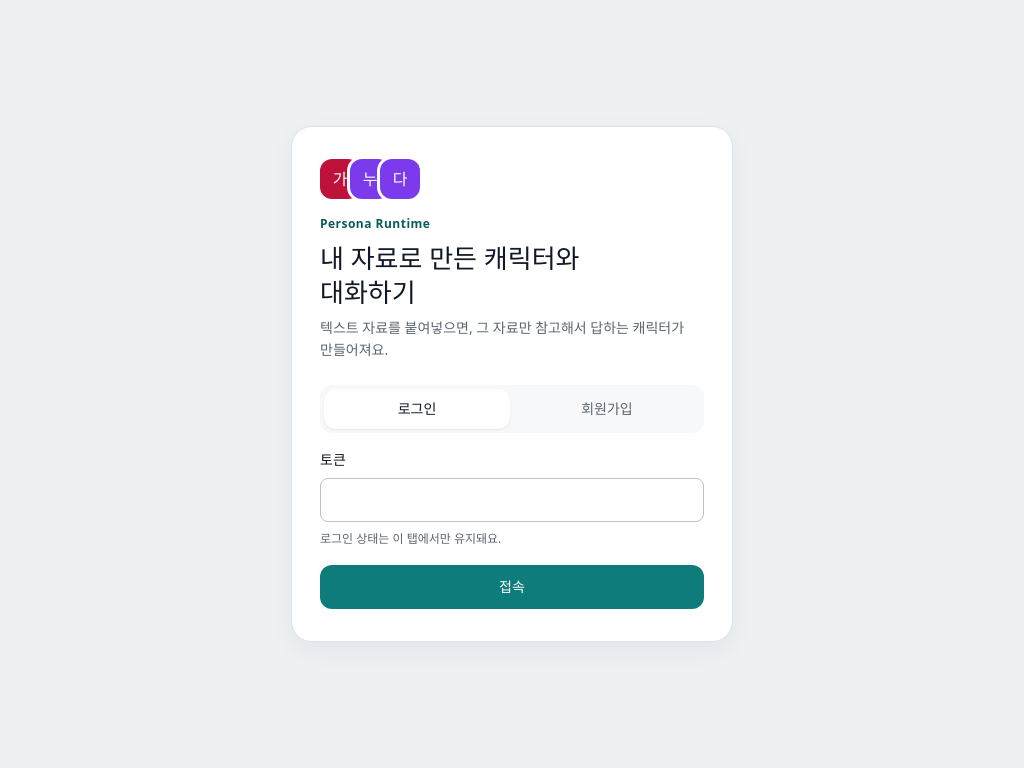
Test: 로그아웃 뒤 다시 로그인하면 이전 세션이 보던 캐릭터로 돌아가지 않는다
Type "synthetic-token" into the password field labelled "토큰". click: coordinates (512, 500)
box: [320,478,704,522]
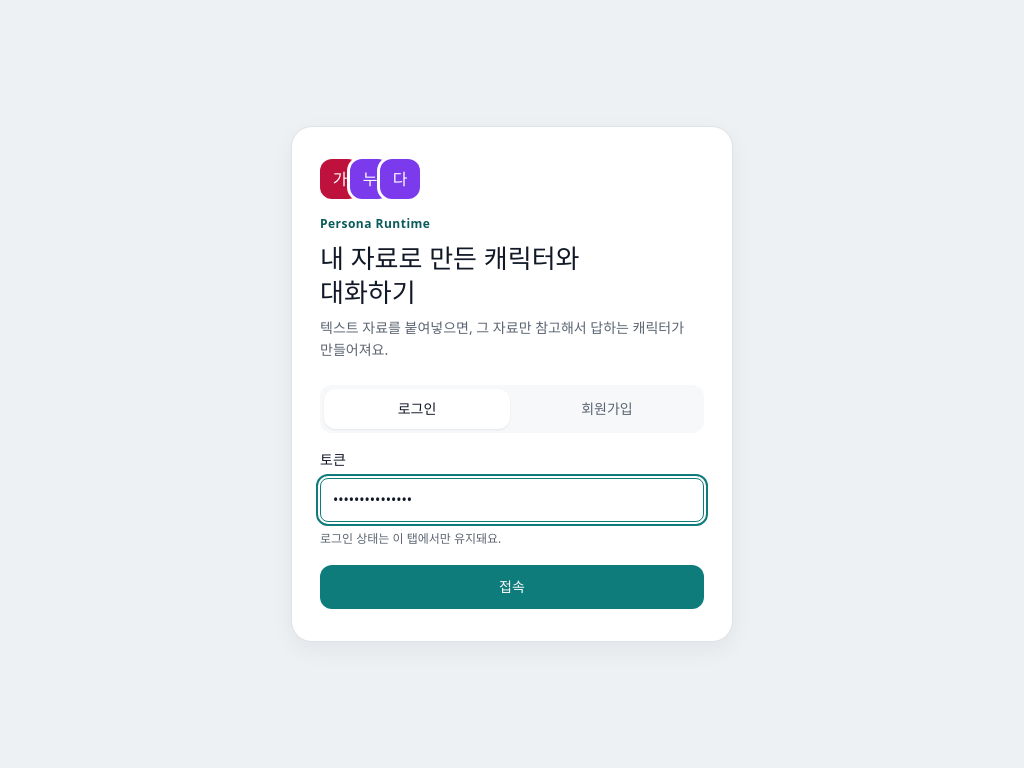
Click the button "접속". click: coordinates (512, 587)
box: [320,565,704,609]
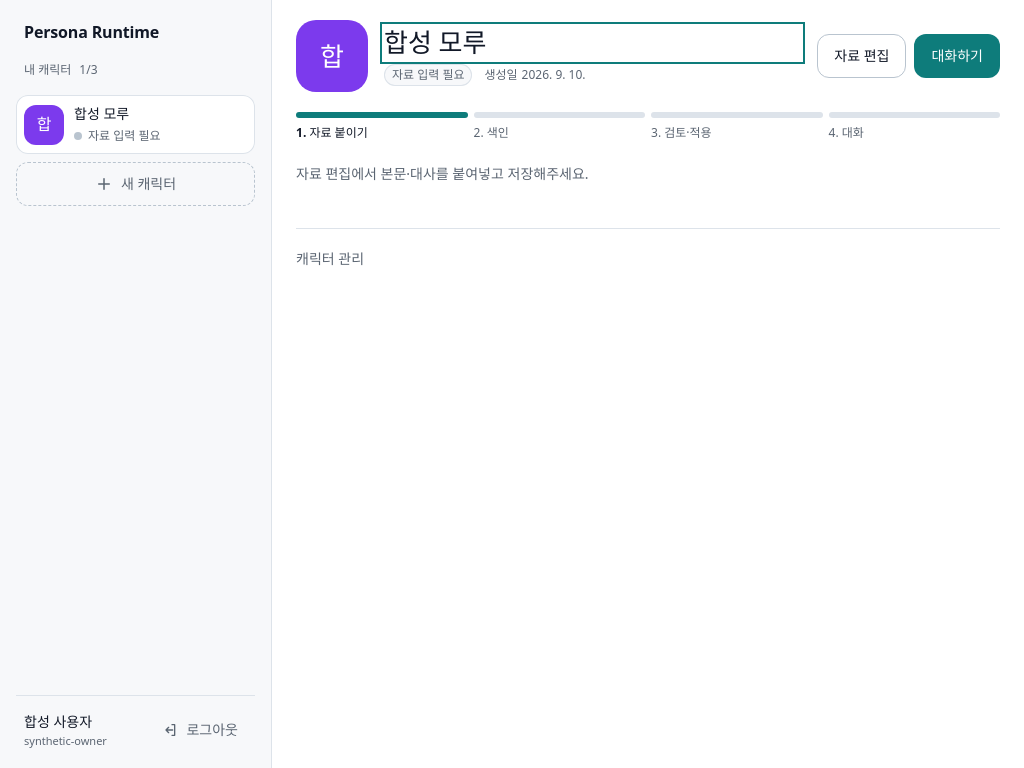
Now the heading "내 캐릭터" is shown, box [24,62,71,77]
Click the button "로그아웃". click: coordinates (200, 730)
box: [154,708,247,752]
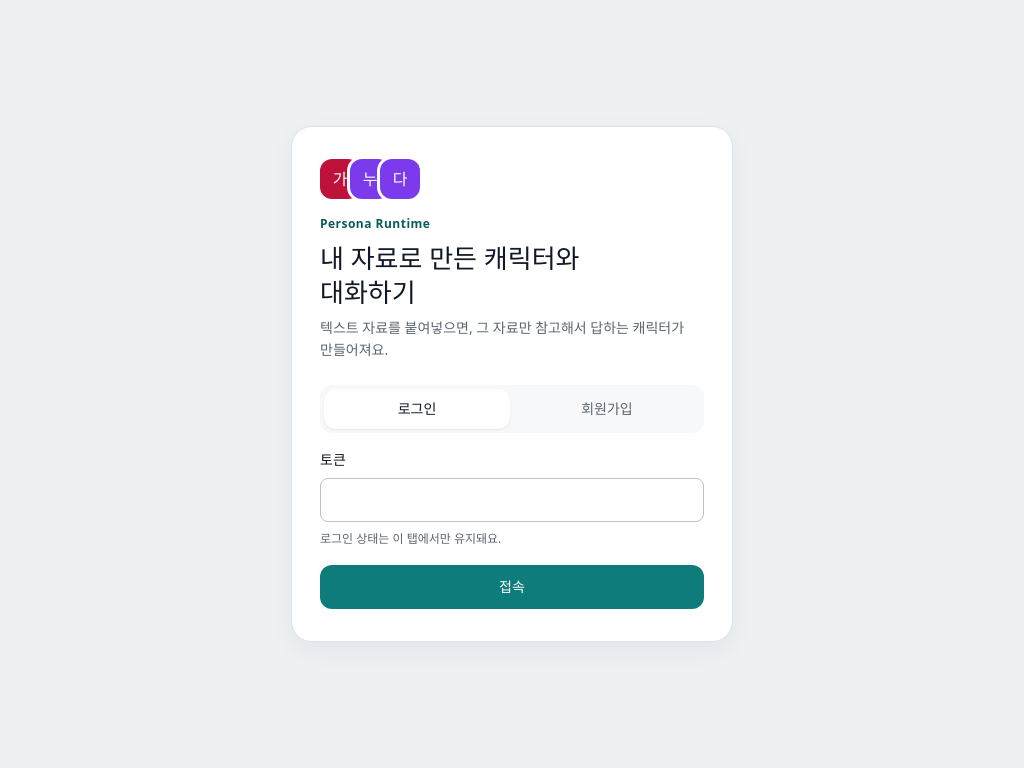
Type "synthetic-token" into the password field labelled "토큰". click: coordinates (512, 500)
box: [320,478,704,522]
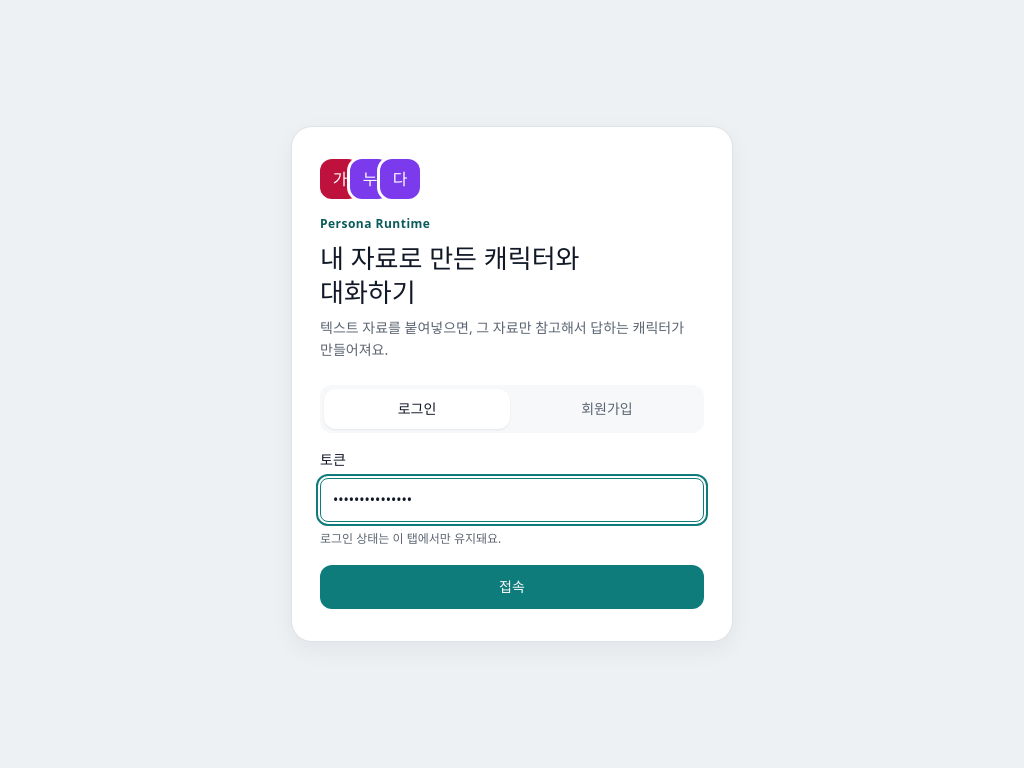
Click the button "접속". click: coordinates (512, 587)
box: [320,565,704,609]
(page scrolled)
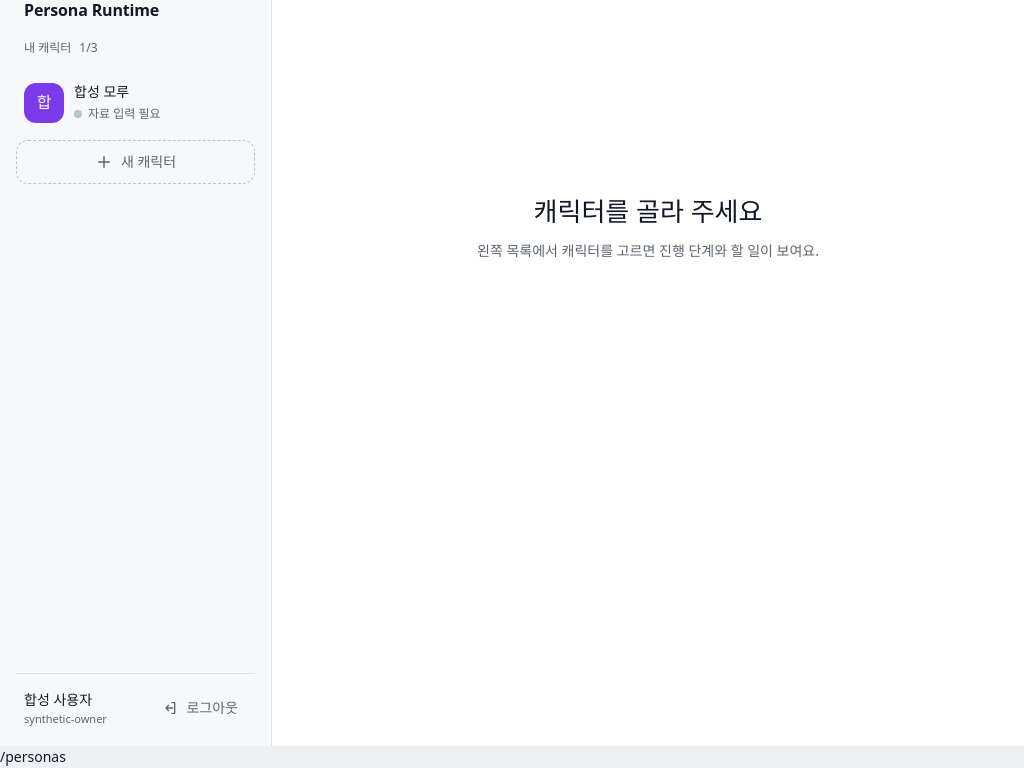
Now the text with test id "pathname" reads "/personas", box [0,747,66,766]
